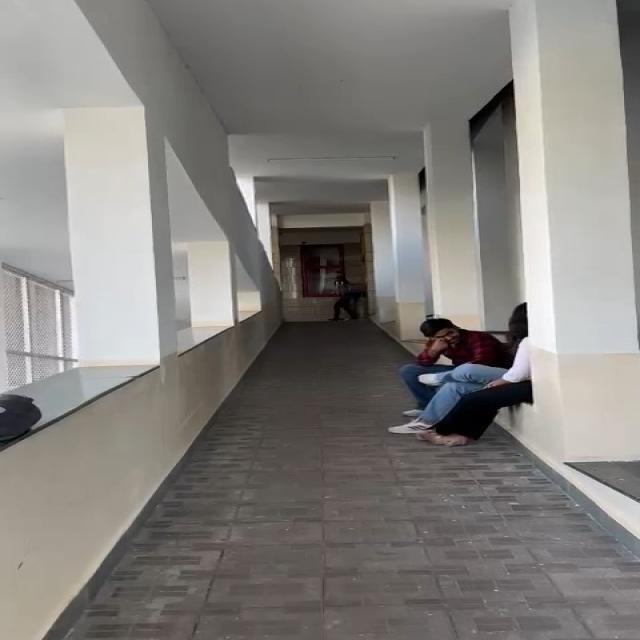floor: (123, 515, 640, 640), (275, 335, 396, 507)
moving_object: (388, 306, 546, 446)
wall: (3, 0, 277, 366), (376, 0, 624, 299)
